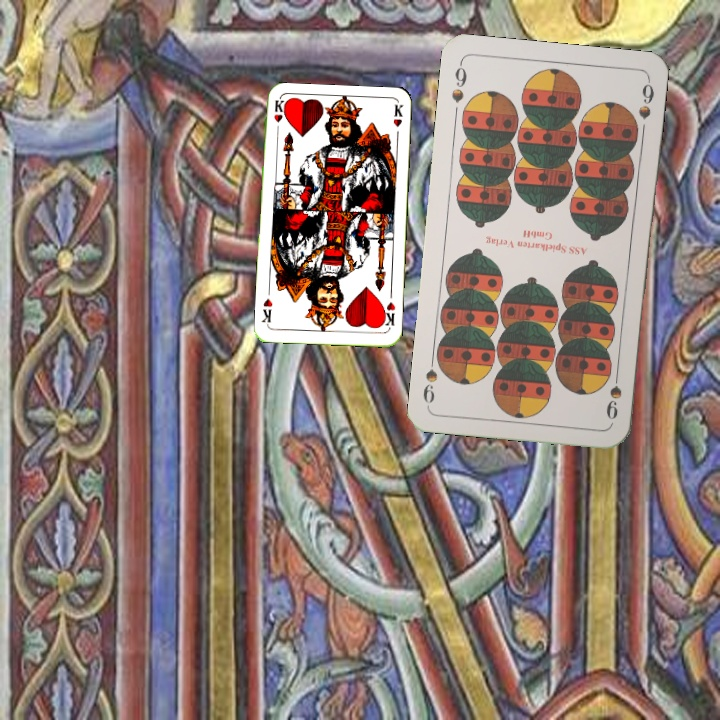HK: (378, 298, 398, 331), (270, 97, 286, 138)
S9: (602, 364, 625, 422), (448, 58, 469, 105)
